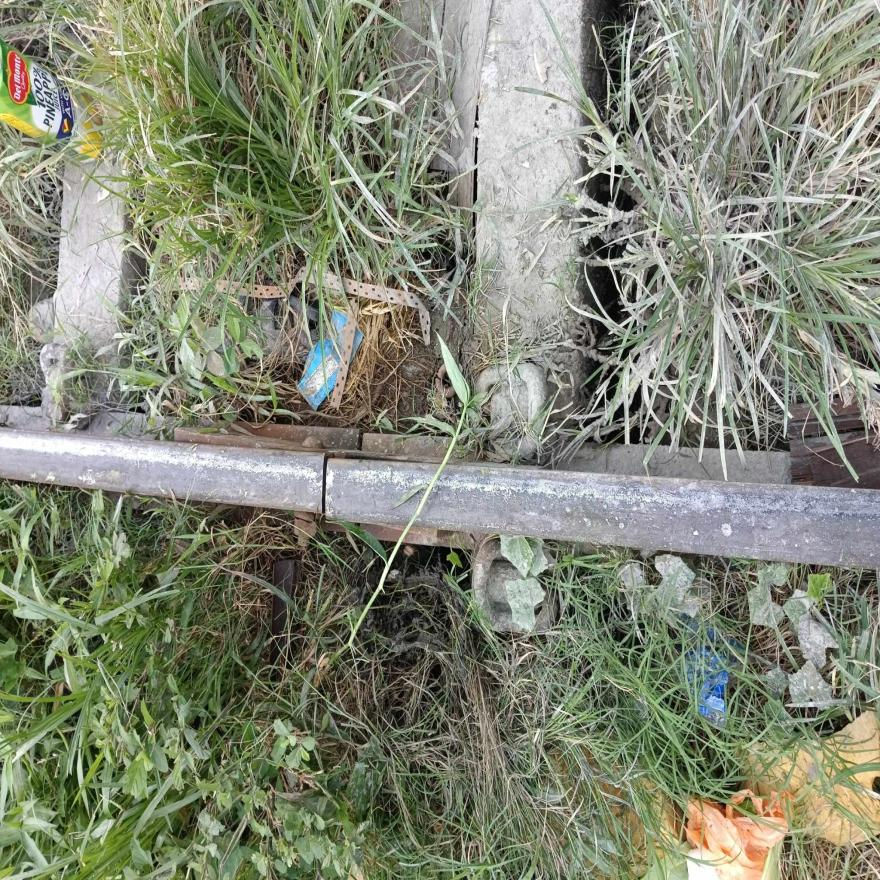railway-gap: (290, 446, 356, 538)
